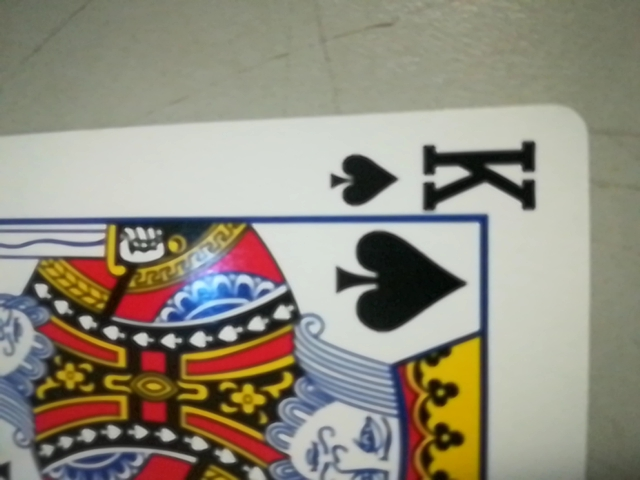ht k: (317, 137, 543, 216)
